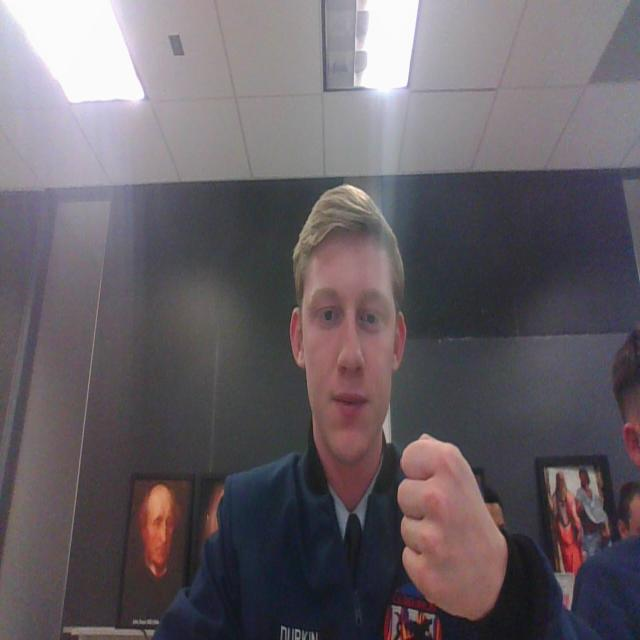rock: (392, 426, 512, 622)
